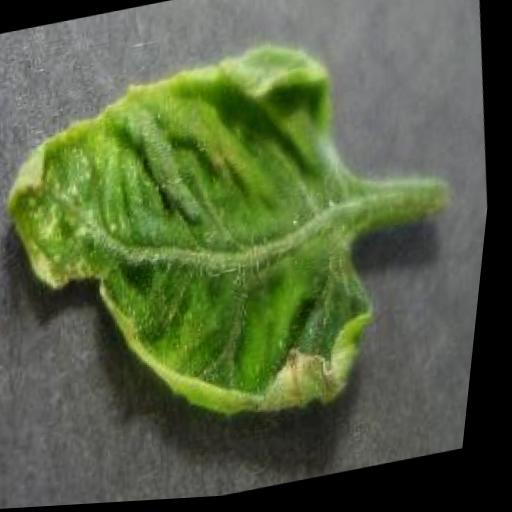Yellow Leaf Curl Virus: (0, 29, 419, 472)
